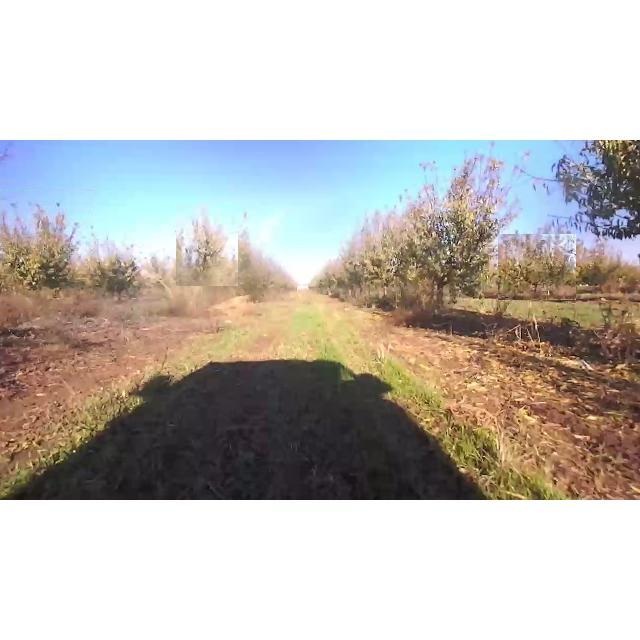direk: (396, 162, 512, 321), (0, 190, 92, 306), (498, 234, 576, 300), (176, 204, 238, 286), (358, 210, 412, 302)
